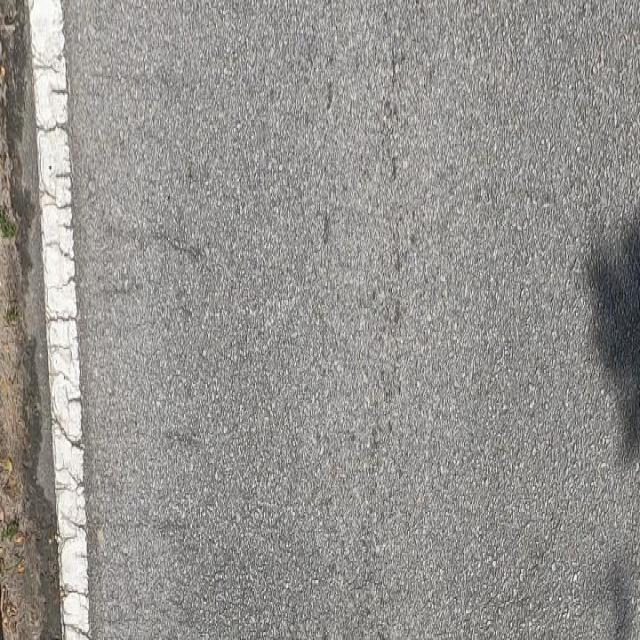zero: (13, 1, 639, 640)
